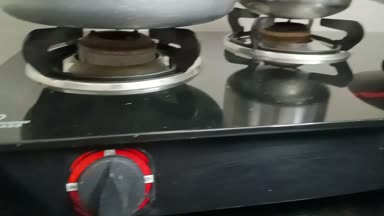noflame_gason: (28, 24, 180, 216)
